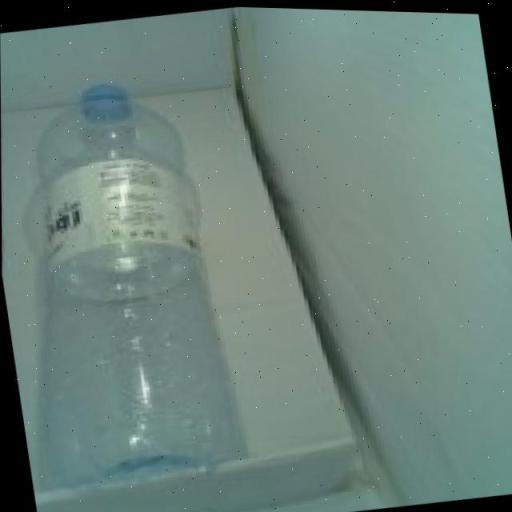plastic: (0, 66, 252, 512)
